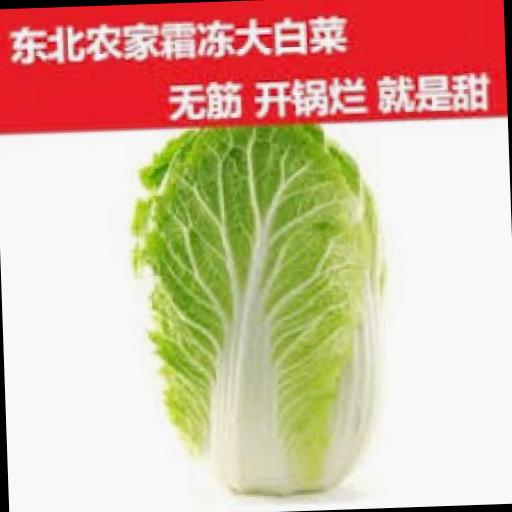biodegradable: (123, 119, 388, 496)
